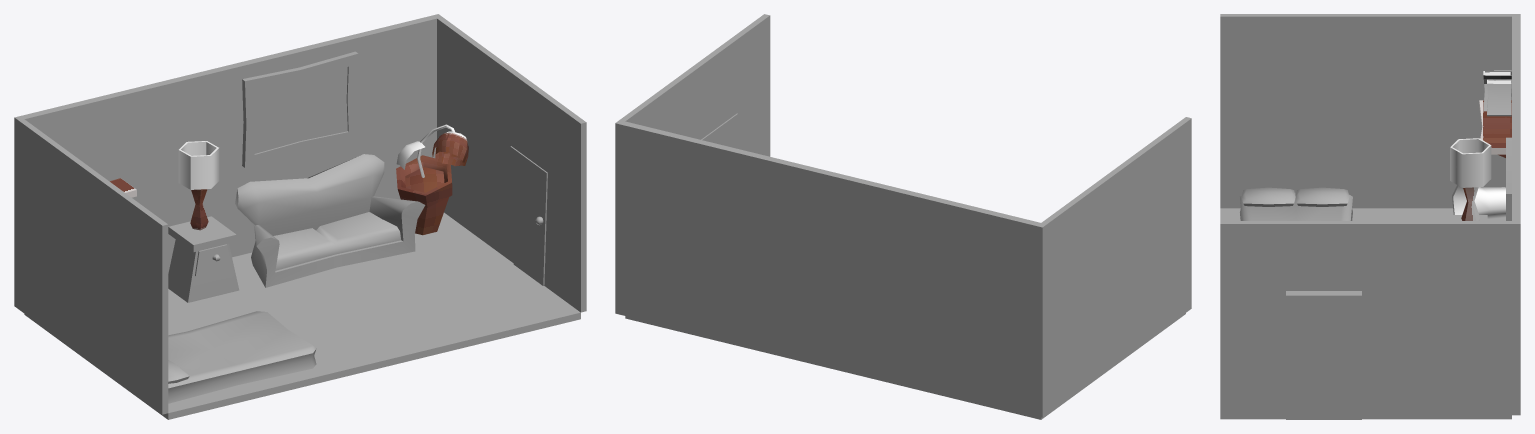
File: roomPropsTest.fbx
The picture shows the model from 3 angles, left to right: view 1: azimuth 30°, elevation 25°; view 2: azimuth 150°, elevation 25°; view 3: azimuth 270°, elevation 25°; orthographic projection.
Parts seen in each view (by area): view 1: walls, sofa, mattress, polymsh_detached3, cube, door, cube4, cylinder, polymsh_detached1, polymsh_detached, polymsh_detached2, cylinder3; view 2: walls, door; view 3: walls, bricks, mattress, polymsh_detached1, cylinder5, polymsh24, cube8, cube, cylinder3, cube2.
Part boxes in pixels (left/top/right/bottom): walls: left=14, top=14, right=586, bottom=419; sofa: left=235, top=154, right=425, bottom=287; mattress: left=168, top=311, right=316, bottom=403; polymsh_detached3: left=254, top=67, right=347, bottom=153; cube: left=242, top=51, right=358, bottom=167; door: left=510, top=146, right=547, bottom=285; cube4: left=168, top=216, right=239, bottom=302; cylinder: left=396, top=155, right=452, bottom=235; polymsh_detached1: left=178, top=141, right=219, bottom=189; polymsh_detached: left=195, top=244, right=231, bottom=276; polymsh_detached2: left=405, top=167, right=444, bottom=192; cylinder3: left=190, top=189, right=208, bottom=230; walls: left=615, top=14, right=1191, bottom=419; door: left=701, top=113, right=737, bottom=148; walls: left=1220, top=14, right=1520, bottom=419; bricks: left=1286, top=291, right=1361, bottom=419; mattress: left=1240, top=187, right=1352, bottom=220; polymsh_detached1: left=1450, top=138, right=1491, bottom=187; cylinder5: left=1452, top=185, right=1505, bottom=218; polymsh24: left=1479, top=100, right=1511, bottom=157; cube8: left=1487, top=79, right=1511, bottom=116; cube: left=1506, top=137, right=1511, bottom=220; cylinder3: left=1461, top=187, right=1480, bottom=220; cube2: left=1483, top=70, right=1511, bottom=111.
Size of the model in its own units: 13.93 by 6 by 8.24.
